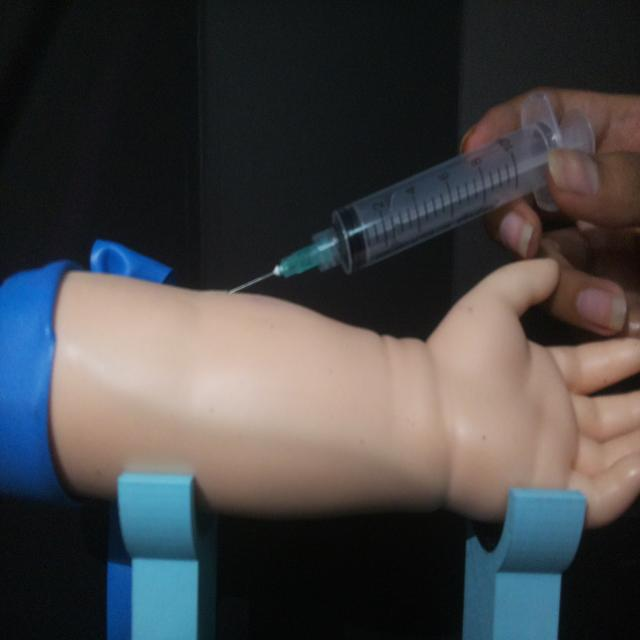22deg: (222, 88, 598, 299)
